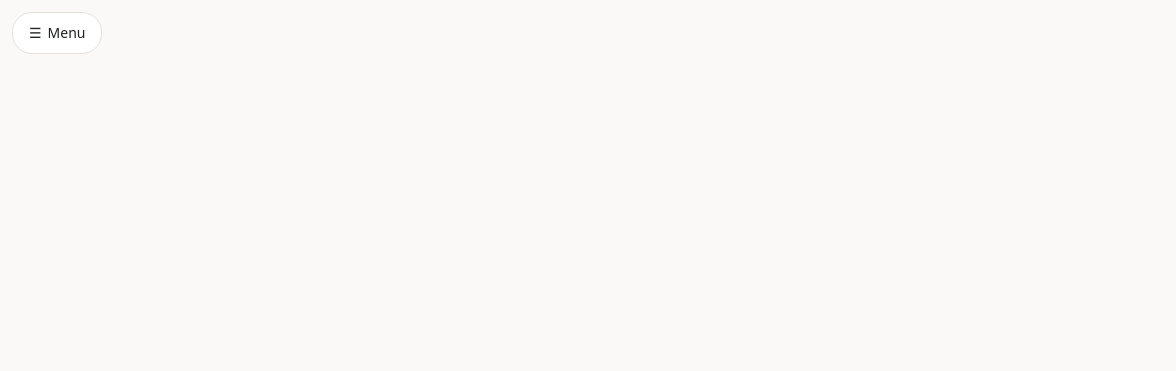
Test: AdminMenu › viser alle links og log ud-knappen efter tryk på Menu
Click the button "☰ Menu".
click(57, 33)  # box top-left (12, 12), bottom-right (102, 54)
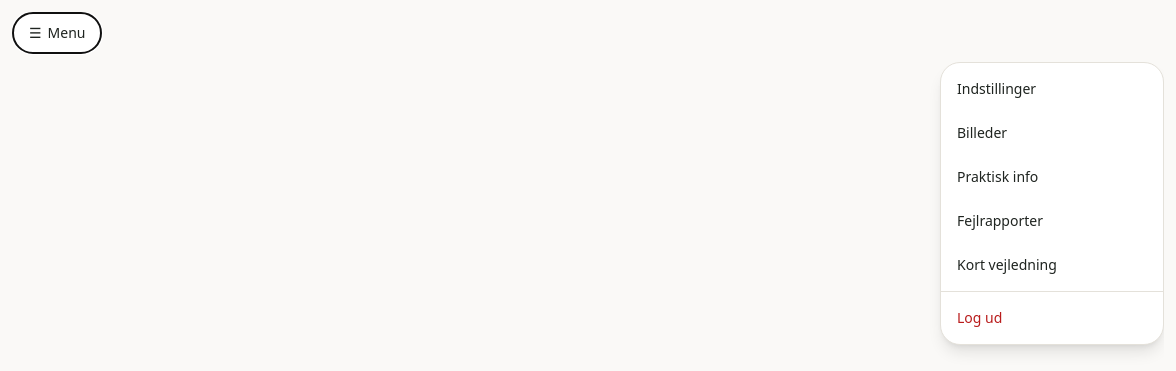
Now the link "Indstillinger" is shown, box top-left (957, 79), bottom-right (1036, 98)
Now the link "Billeder" is shown, box top-left (957, 123), bottom-right (1007, 142)
Now the link "Praktisk info" is shown, box top-left (957, 167), bottom-right (1038, 186)
